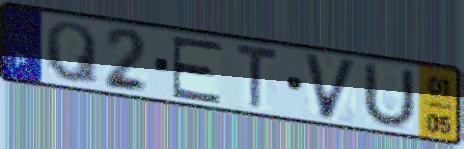2: (101, 27, 151, 95)
E: (169, 35, 226, 106)
Q: (42, 19, 101, 88)
T: (234, 41, 281, 112)
U: (359, 59, 418, 131)
V: (300, 50, 360, 124)
